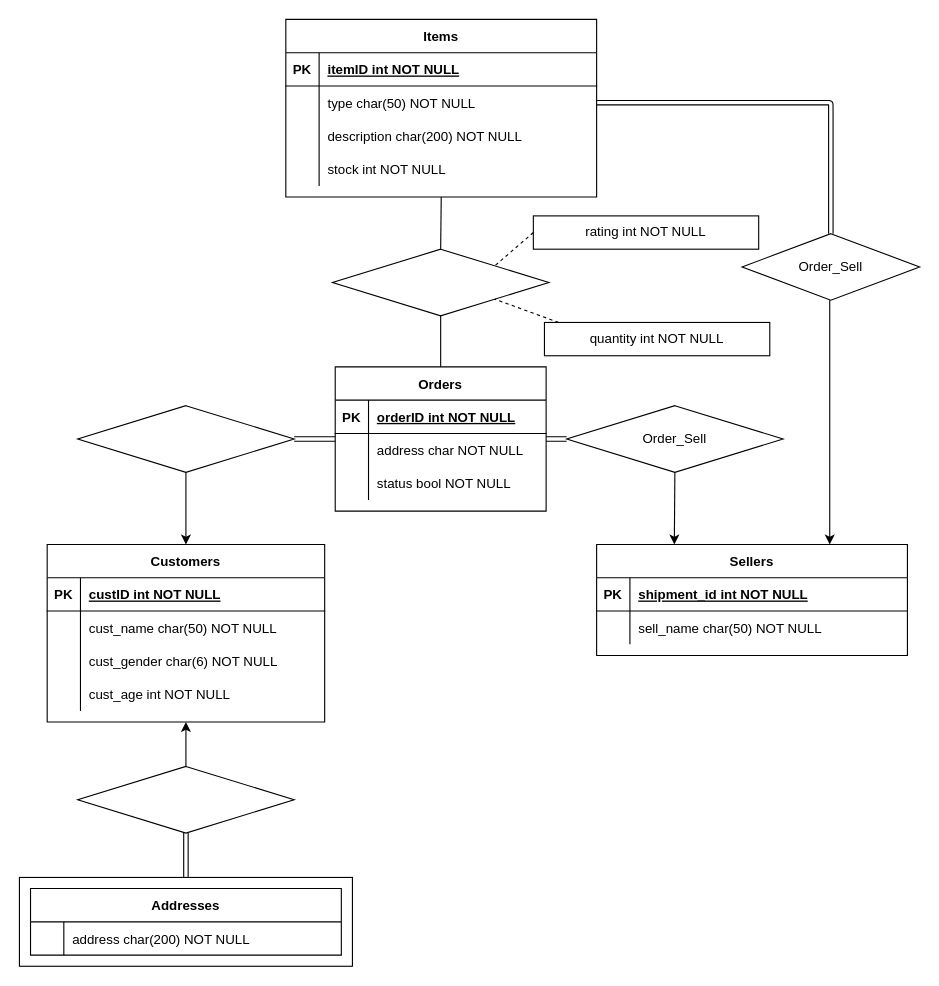
Image size: 939x986. Some labels were removed from this diagram. The shapes that lost their labels are listed below. From the top down, each one's centre as x and y in pixels, then its label:
the point at 440,282: Order_Item
the point at 185,438: Order_Cust
the point at 185,799: Cust_Addr
